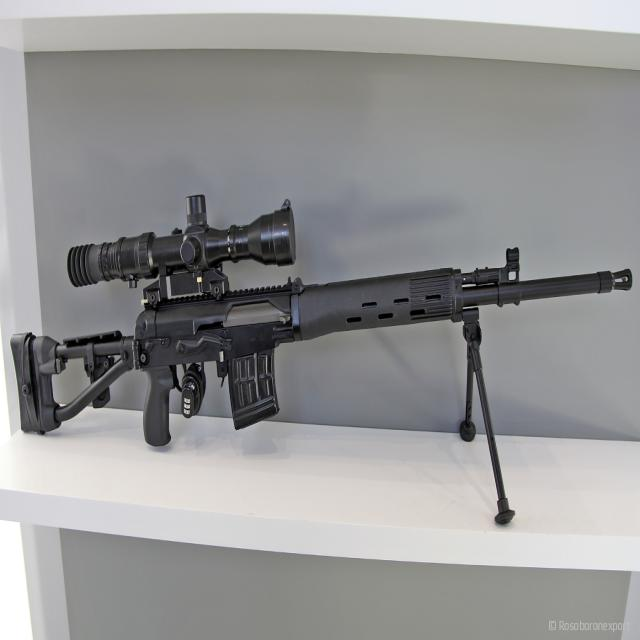Rifle: (19, 216, 634, 448)
